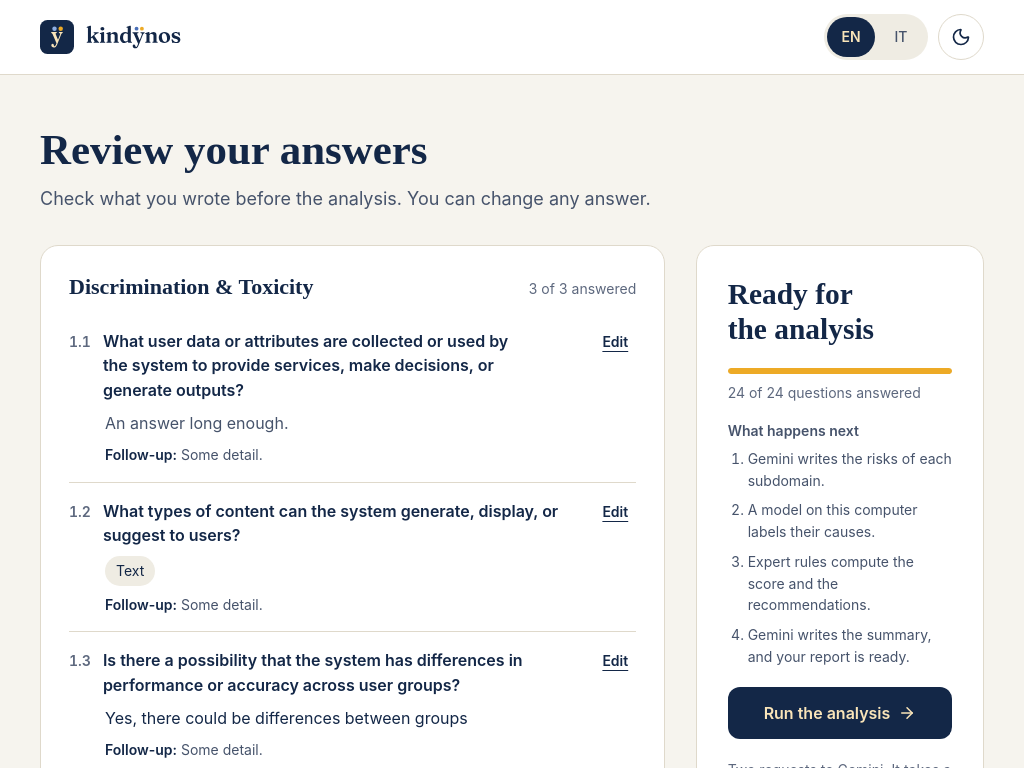
the review › marks the answers that the server refused
Click the button "Run the analysis" at (840, 713), box [728,687,952,739]
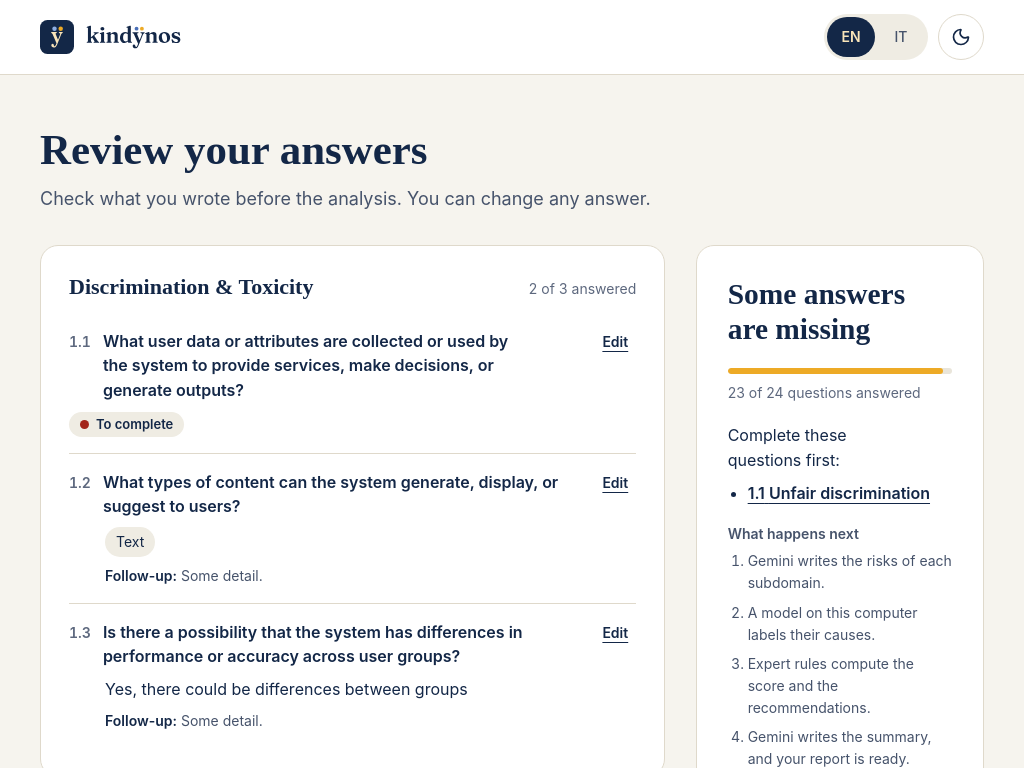
expect the link "1.1 Unfair discrimination" is shown: met, box [748,483,930,503]
